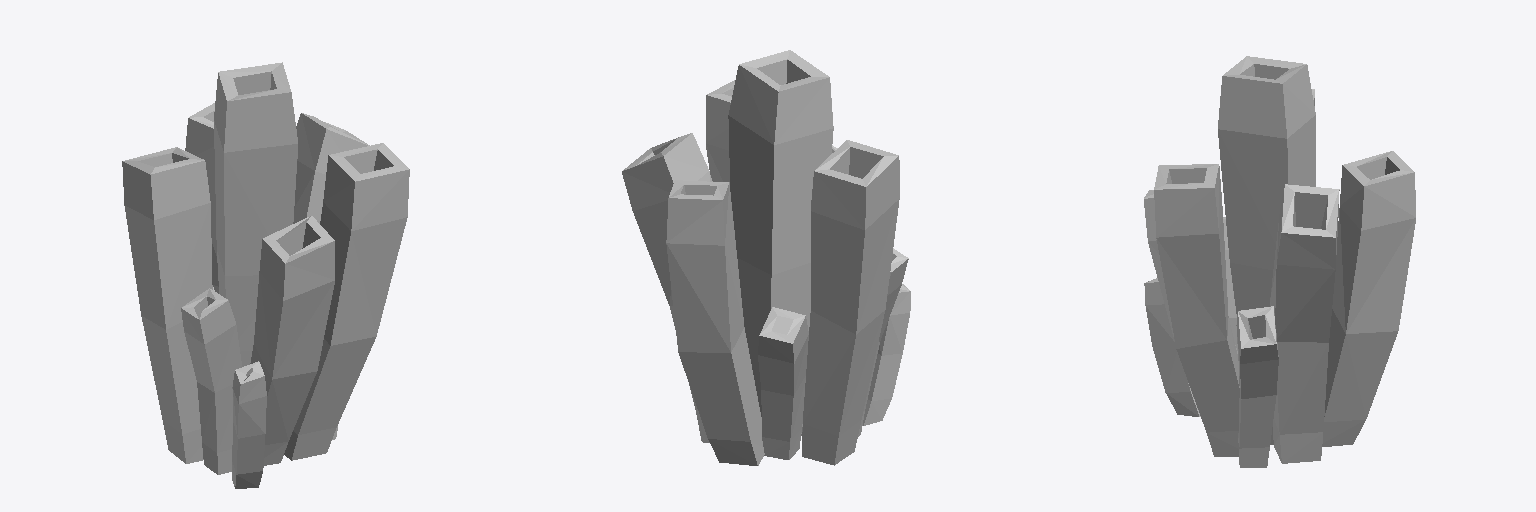
The model's file is Coral_C_03_LOD3.obj.
3 views of the same model, side by side, from view 1: azimuth 30°, elevation 25°; view 2: azimuth 150°, elevation 25°; view 3: azimuth 270°, elevation 25° (orthographic).
Visible parts, largest first — view 1: Coral_C_03_LOD3_Cylinder.440; view 2: Coral_C_03_LOD3_Cylinder.440; view 3: Coral_C_03_LOD3_Cylinder.440.
Boxes of the visible parts, x1,y1,x2,y2 form: Coral_C_03_LOD3_Cylinder.440: [122, 62, 409, 488]; Coral_C_03_LOD3_Cylinder.440: [622, 50, 910, 465]; Coral_C_03_LOD3_Cylinder.440: [1144, 56, 1415, 467].
Size of the model in its own units: 4.31 by 6.46 by 4.3.